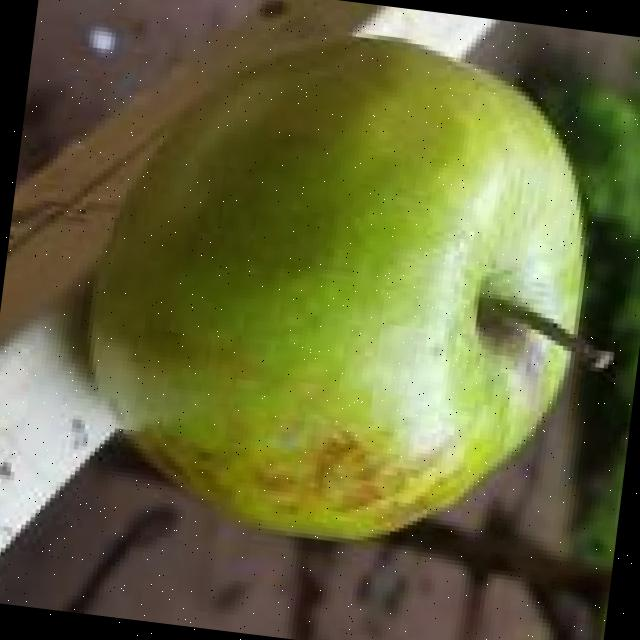Good_Apple 10-21 days: (92, 43, 612, 540)
